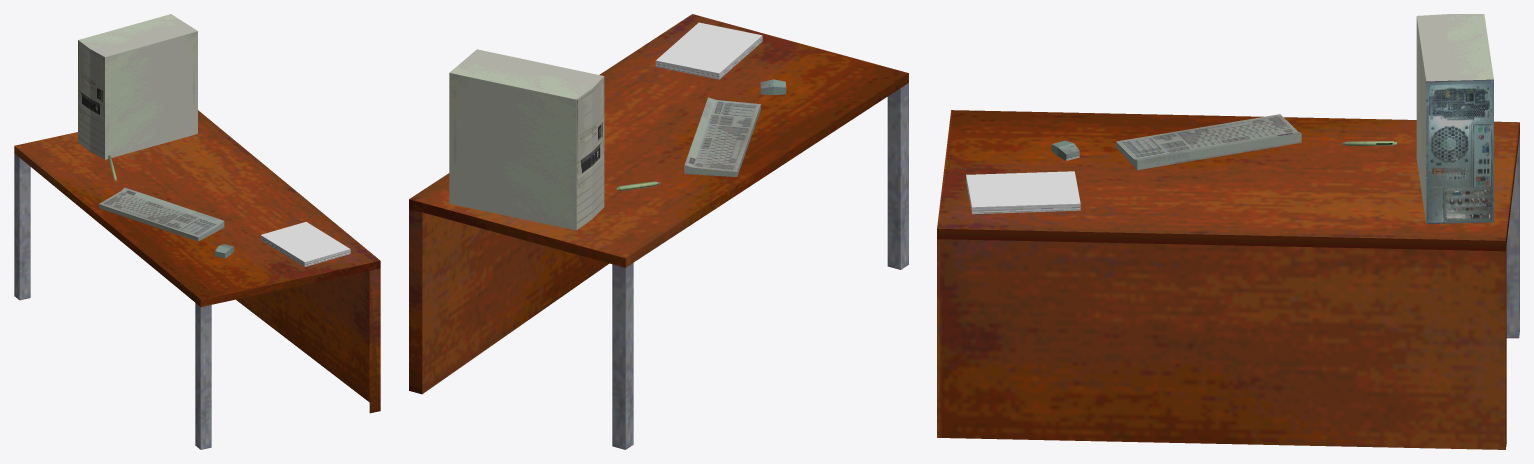
File: desk_03.fbx
The picture shows the model from 3 angles, left to right: view 1: azimuth 30°, elevation 25°; view 2: azimuth 150°, elevation 25°; view 3: azimuth 270°, elevation 25°; orthographic projection. The views are drawn at different scales.
Visible parts, largest first — view 1: desk1_alt4, computer_tower5, computer_keyboard5, paper_stack; view 2: desk1_alt4, computer_tower5, computer_keyboard5, paper_stack; view 3: desk1_alt4, computer_tower5, computer_keyboard5, paper_stack.
Boxes of the visible parts, <box> form: desk1_alt4: <box>14,110,380,449</box>; computer_tower5: <box>78,14,197,159</box>; computer_keyboard5: <box>99,187,224,241</box>; paper_stack: <box>260,222,350,266</box>; desk1_alt4: <box>409,14,908,449</box>; computer_tower5: <box>449,49,604,230</box>; computer_keyboard5: <box>684,97,760,176</box>; paper_stack: <box>655,22,762,79</box>; desk1_alt4: <box>937,110,1519,449</box>; computer_tower5: <box>1416,14,1493,224</box>; computer_keyboard5: <box>1116,114,1301,169</box>; paper_stack: <box>966,171,1080,214</box>.
Bounding box in the file's own units: 120 × 150 × 225.
